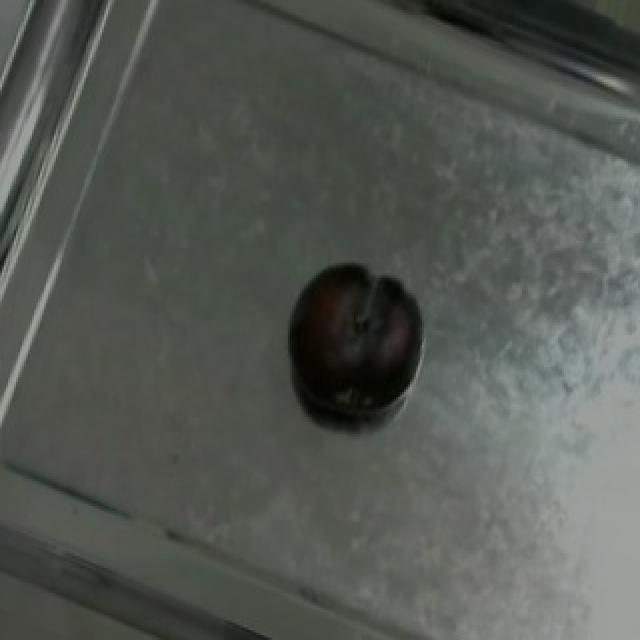Fruit: (268, 248, 428, 422)
